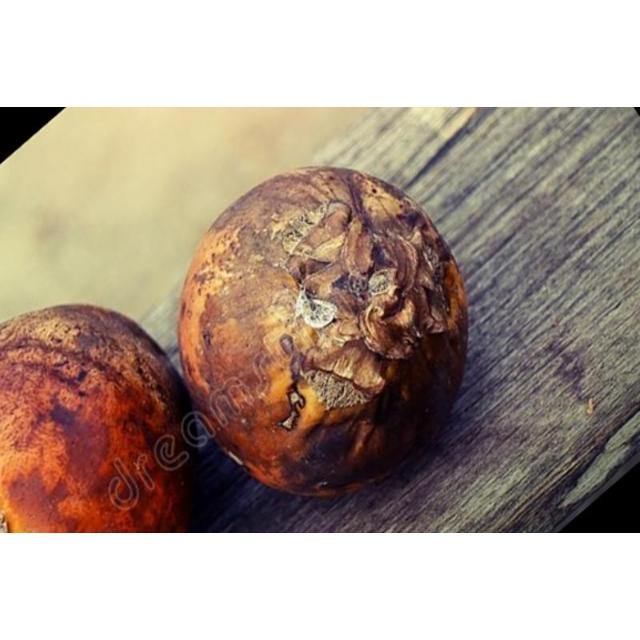damaged: (175, 167, 469, 502), (0, 305, 199, 533)
